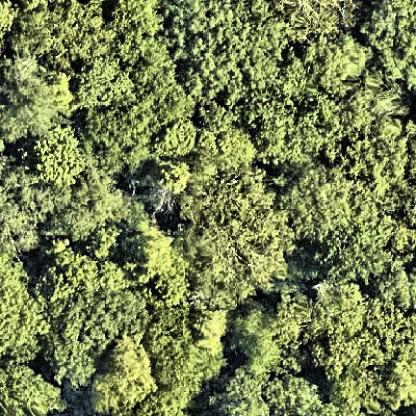tree-top: (182, 181, 292, 301), (74, 43, 192, 147), (42, 256, 134, 385), (174, 2, 271, 99), (264, 64, 352, 159), (8, 1, 116, 70), (308, 280, 379, 372), (281, 162, 357, 241), (211, 366, 325, 416), (91, 332, 155, 414), (0, 258, 49, 365), (225, 299, 293, 375), (0, 159, 48, 263), (2, 70, 69, 141), (54, 178, 127, 239), (347, 118, 408, 189), (366, 0, 416, 85), (29, 123, 91, 191), (154, 310, 212, 382), (261, 0, 359, 40), (314, 28, 373, 92), (134, 223, 187, 288), (0, 361, 62, 416), (202, 119, 262, 174), (202, 373, 272, 416), (386, 314, 416, 412), (134, 162, 194, 210), (110, 1, 166, 40), (378, 266, 416, 318), (0, 0, 17, 43)
